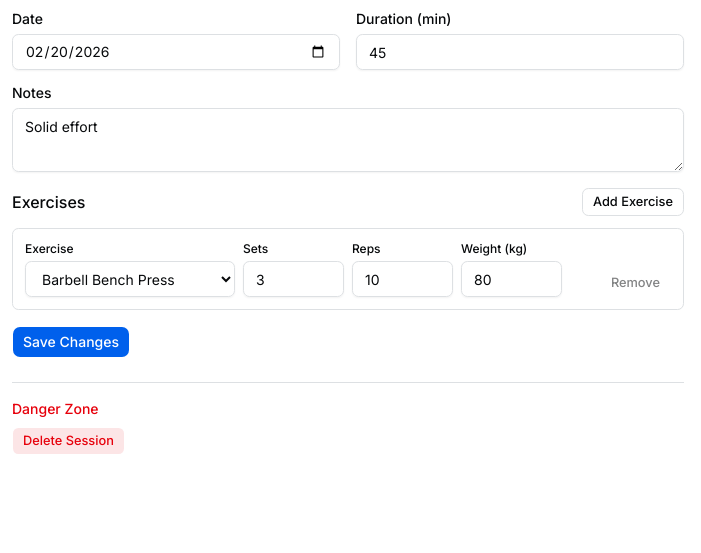
EditWorkoutSessionForm › editWorkoutSessionForm_durationTooLow_showsDurationValidationErrorAndDoesNotCallUpdate
Step 1. Replace the text in the field labelled "Duration (min)" with "-1" → (520, 52), box [356,34,684,70]
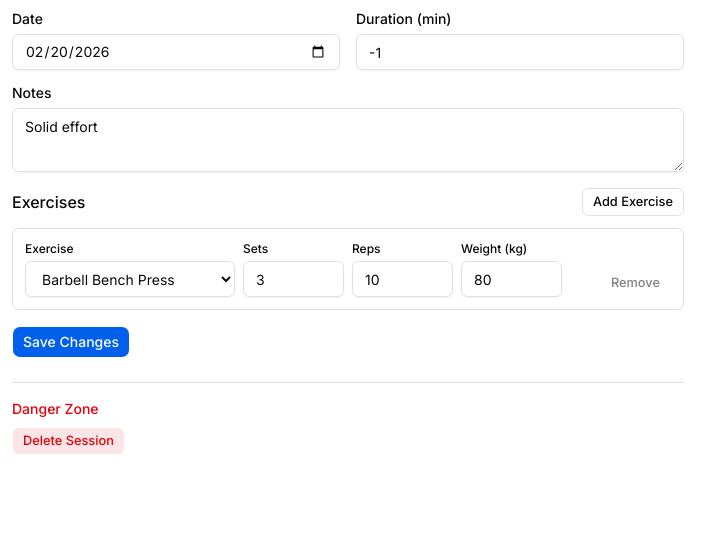
Step 2. Click the button "Save Changes" → (71, 342), box [12,326,130,358]
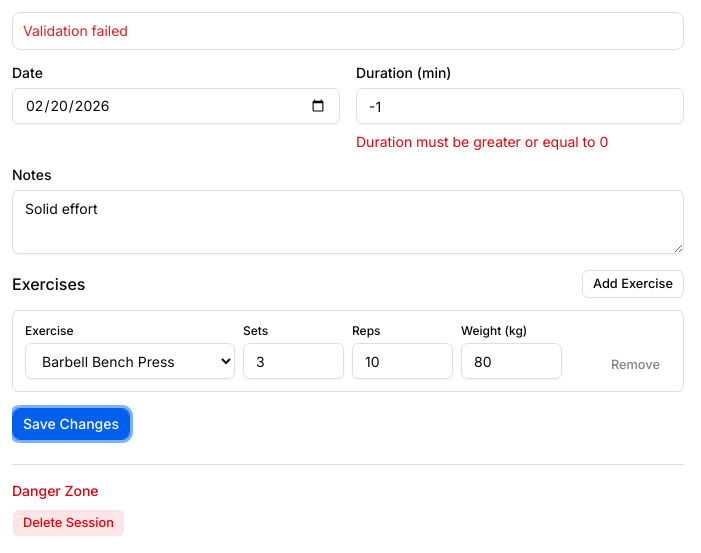
Expected: the text "Duration must be greater or equal to 0" is shown, [356,133,608,150]
